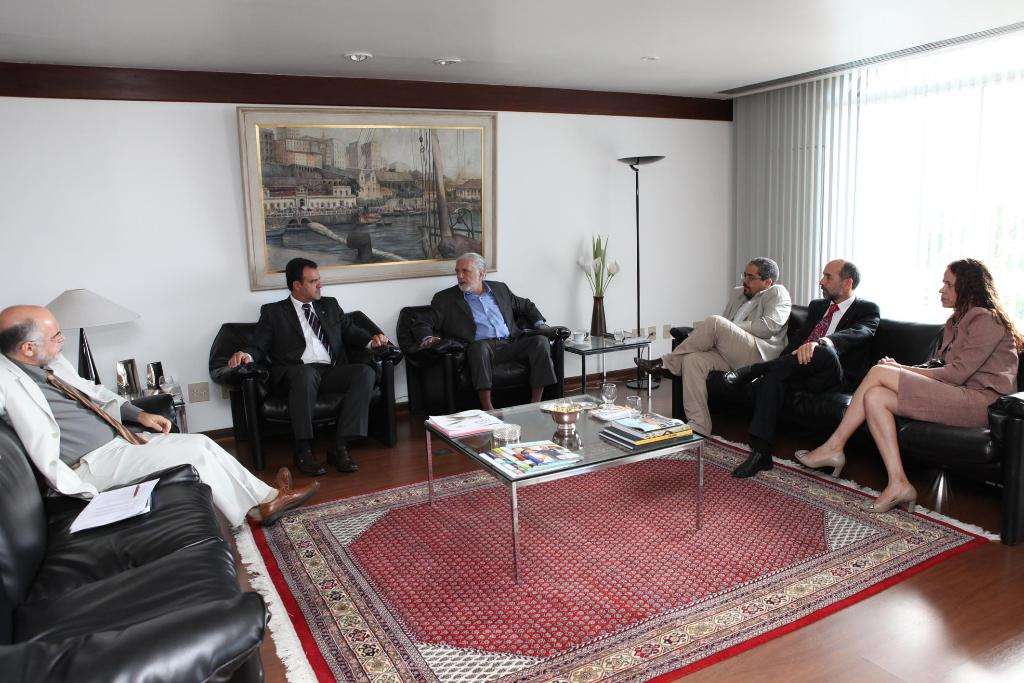Footwear: (259, 478, 319, 527), (253, 462, 292, 525), (855, 483, 917, 517), (795, 452, 846, 480), (731, 454, 775, 477), (326, 443, 362, 471), (634, 357, 670, 383), (295, 451, 326, 472)
